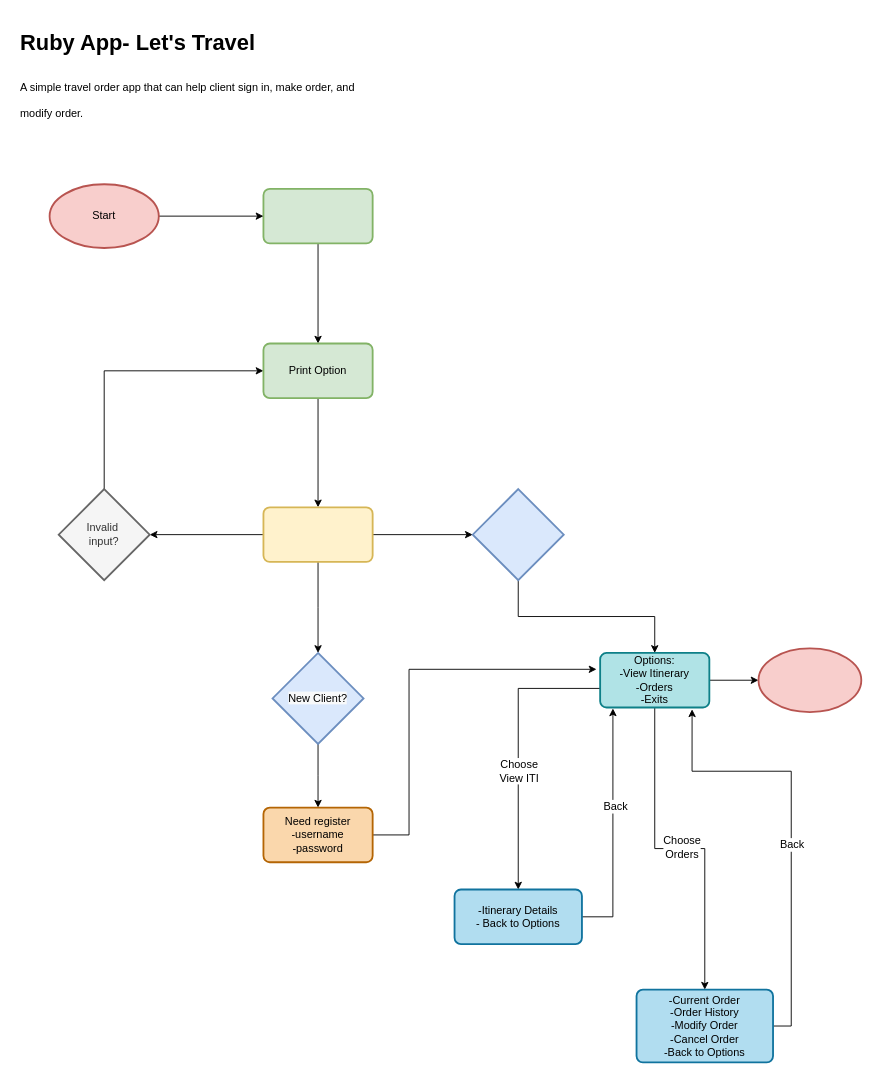
This 878x1078 diagram has some shape labels left out. The shapes that lost their labels are listed below. From the top down, each one's centre as x and y in pixels, then its label:
At [317,215]: "Print Welcome".
At [317,534]: "Ask identity new client or exist client".
At [517,534]: "Exist Client?".
At [809,680]: "Exit".
